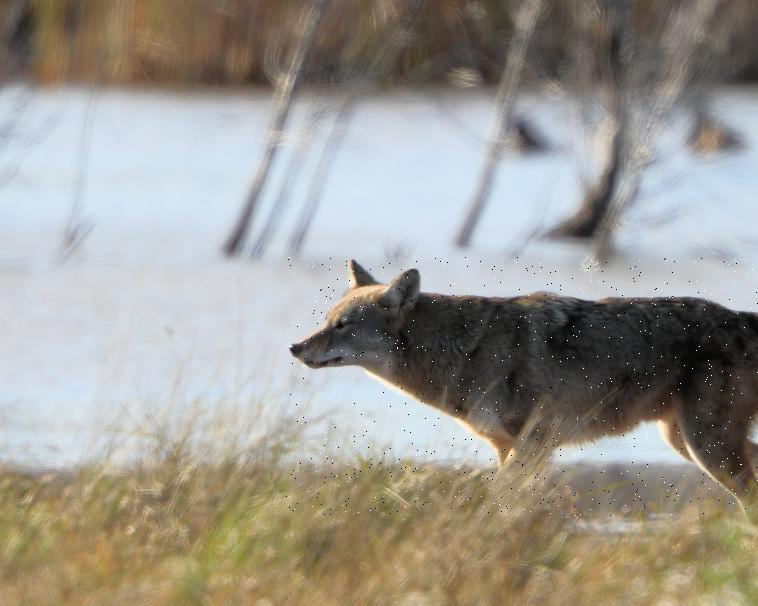Coyote: (286, 257, 758, 516)
